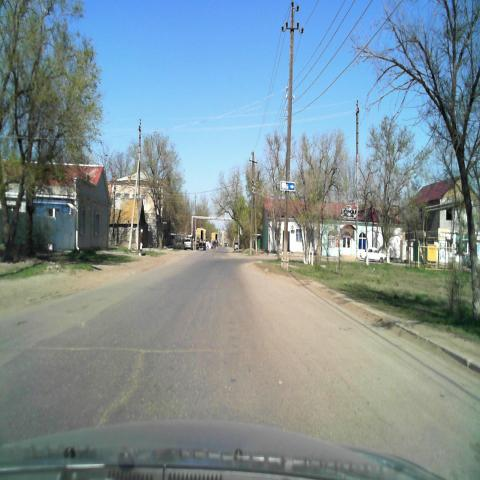6_15_2: (280, 180, 296, 192)
